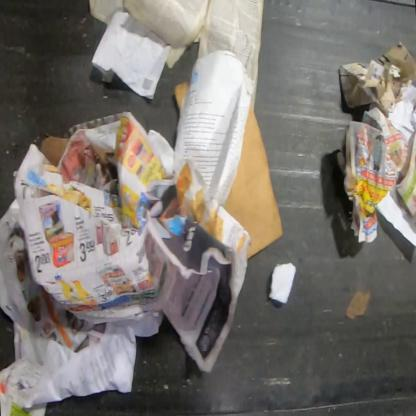cardboard: (224, 103, 284, 258), (41, 135, 69, 169), (174, 82, 190, 112)
